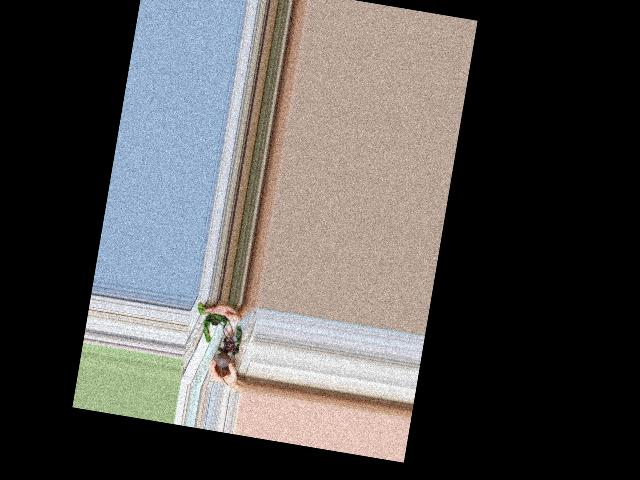beet: (185, 302, 245, 386)
